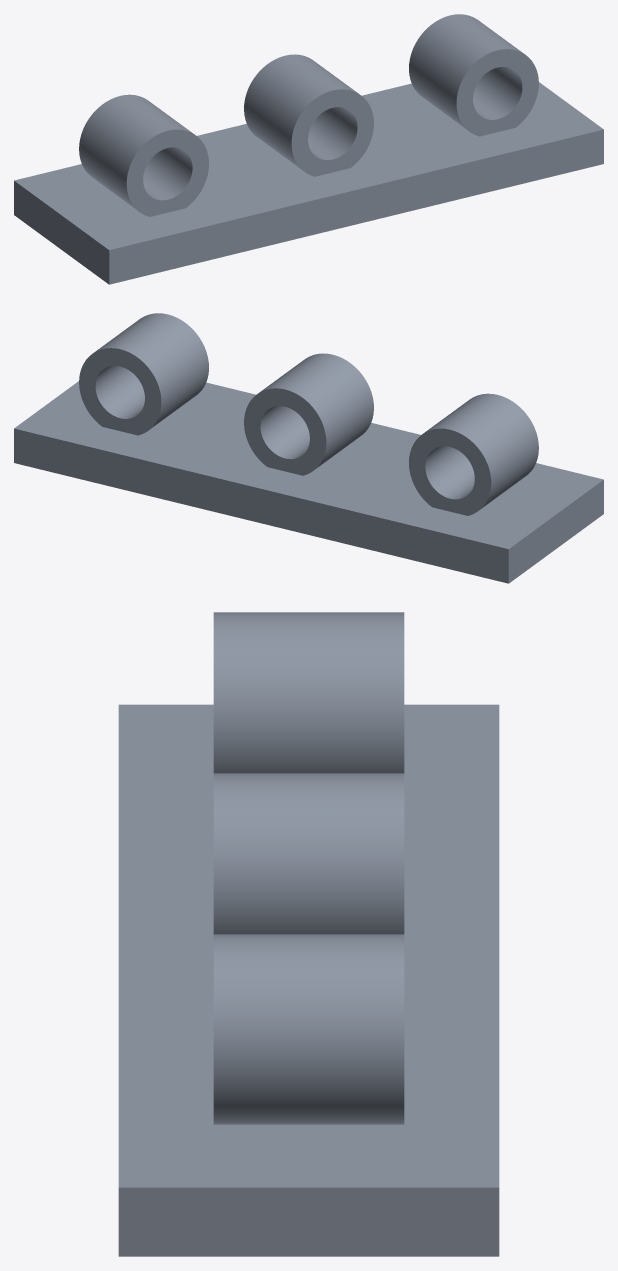
The model's file is step-1-preview-3.glb.
3 views of the same model, one above another, from view 1: azimuth 30°, elevation 25°; view 2: azimuth 150°, elevation 25°; view 3: azimuth 270°, elevation 25° (orthographic). The views are drawn at different scales.
Parts seen in each view (by area): view 1: preview_2, preview_7, preview_0, preview_10, preview_13, preview_11, preview_3, preview_14, preview_5, preview_4, preview_16, preview_17; view 2: preview_2, preview_6, preview_0, preview_10, preview_13, preview_9, preview_1, preview_12, preview_5, preview_4, preview_16, preview_17; view 3: preview_2, preview_13, preview_0, preview_10, preview_8.
Part boxes in pixels (box(x1,y1,x2,y2)): preview_2: box(14, 82, 603, 250); preview_7: box(109, 129, 603, 284); preview_0: box(79, 94, 194, 210); preview_10: box(244, 54, 358, 169); preview_13: box(409, 14, 523, 129); preview_11: box(291, 89, 373, 176); preview_3: box(126, 129, 208, 216); preview_14: box(456, 49, 538, 136); preview_5: box(14, 181, 109, 284); preview_4: box(143, 147, 192, 200); preview_16: box(308, 107, 357, 160); preview_17: box(473, 66, 522, 119); preview_2: box(14, 381, 603, 549); preview_6: box(14, 428, 508, 583); preview_0: box(423, 393, 538, 509); preview_10: box(259, 353, 373, 468); preview_13: box(94, 313, 208, 428); preview_9: box(244, 388, 326, 475); preview_1: box(409, 428, 491, 515); preview_12: box(79, 348, 161, 435); preview_5: box(508, 480, 603, 583); preview_4: box(425, 446, 474, 499); preview_16: box(260, 406, 309, 459); preview_17: box(95, 365, 144, 418); preview_2: box(118, 704, 499, 1187); preview_13: box(213, 934, 404, 1124); preview_0: box(213, 612, 404, 773); preview_10: box(213, 773, 404, 934); preview_8: box(118, 1187, 499, 1256).
Size of the model in its own units: 0.06 by 0.0135 by 0.02.
